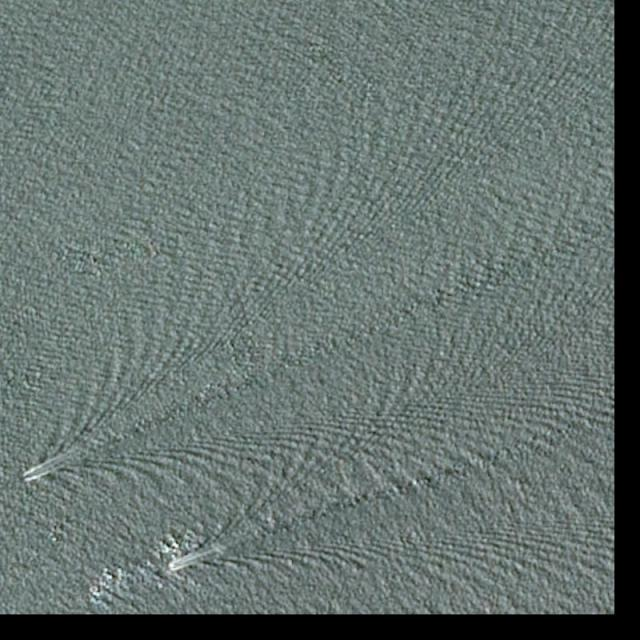ship: (167, 565, 175, 570), (22, 474, 30, 478)
